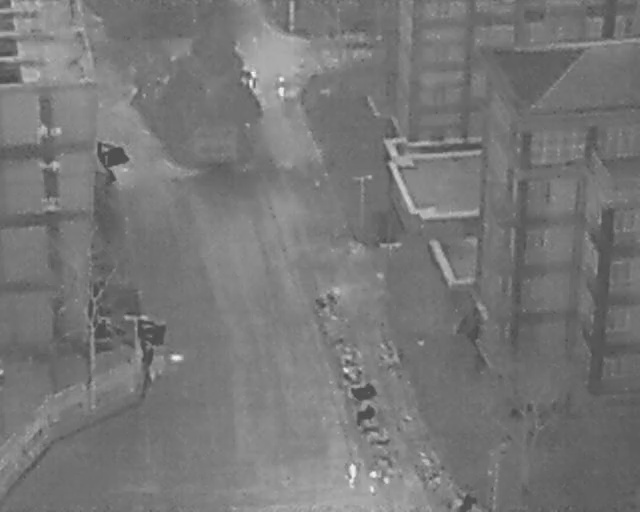Bicycle: (310, 285, 345, 317), (340, 364, 365, 388), (373, 452, 395, 471), (358, 422, 384, 438), (367, 435, 393, 450), (375, 351, 398, 364)
Person: (346, 463, 357, 488), (276, 76, 288, 97), (248, 69, 259, 89)
